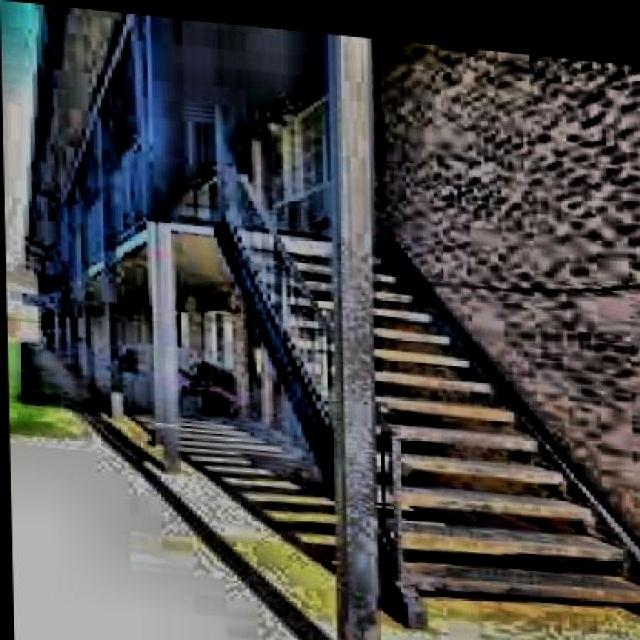stair: (220, 222, 638, 598)
